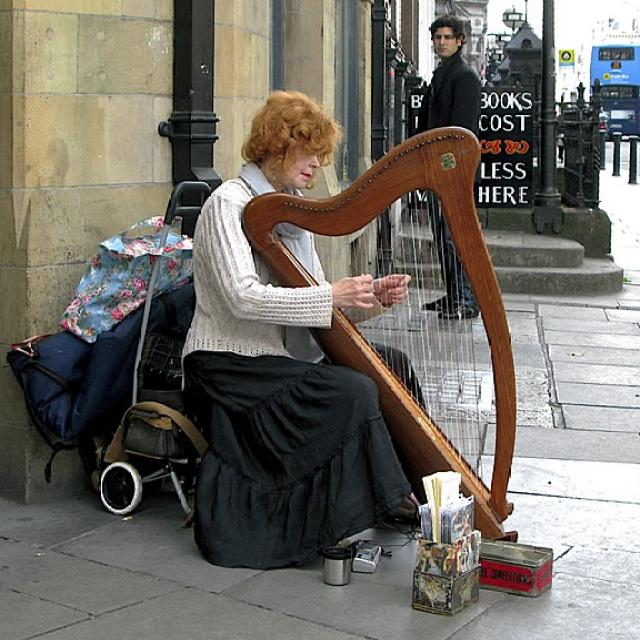harp: (240, 124, 517, 543)
